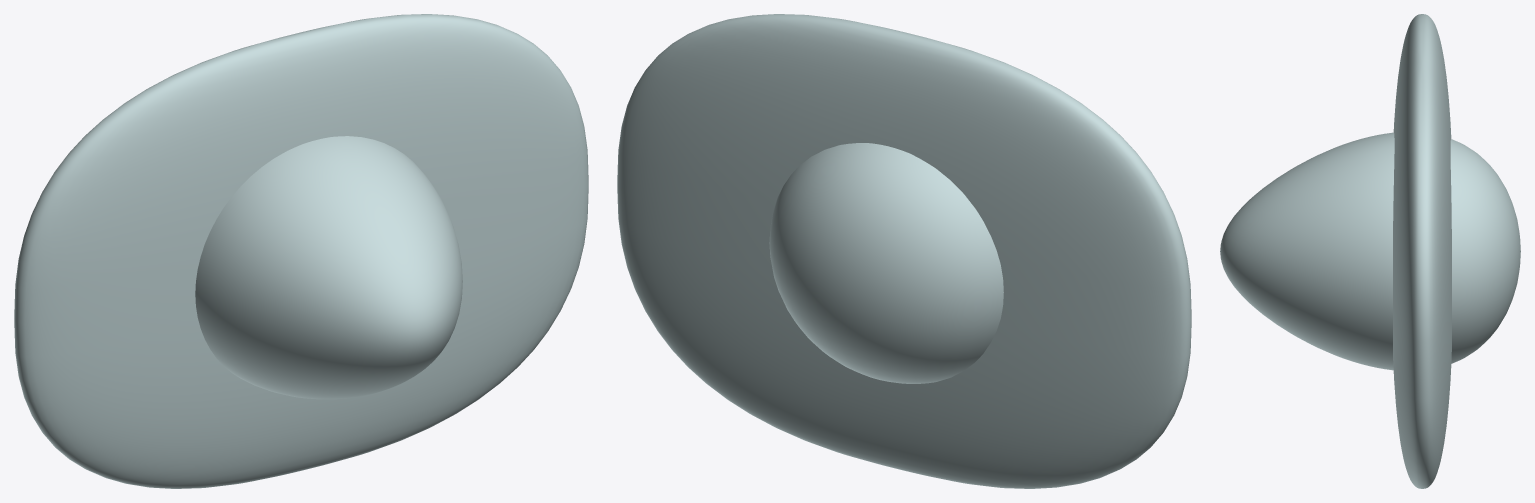
3 renders of one model, left to right at view 1: azimuth 30°, elevation 25°; view 2: azimuth 150°, elevation 25°; view 3: azimuth 270°, elevation 25°, orthographic. The views are drawn at different scales.
Parts seen in each view (by area): view 1: parent-pool, liquid-mound; view 2: parent-pool, liquid-mound; view 3: liquid-mound, parent-pool.
Boxes of the visible parts, <box> form: parent-pool: <box>14,14,588,488</box>; liquid-mound: <box>195,136,462,399</box>; parent-pool: <box>617,14,1191,488</box>; liquid-mound: <box>769,143,1003,383</box>; liquid-mound: <box>1220,132,1520,370</box>; parent-pool: <box>1393,14,1451,488</box>.
Bounding box in the file's own units: 2.2 × 1.6 × 1.16.
